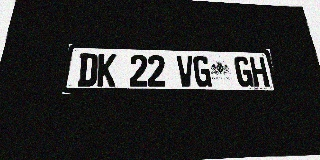2: (129, 54, 147, 86), (148, 55, 165, 86)
D: (77, 53, 98, 86)
G: (234, 56, 254, 87), (193, 56, 212, 87)
H: (249, 57, 270, 87)
K: (96, 53, 116, 86)
V: (176, 55, 195, 87)
